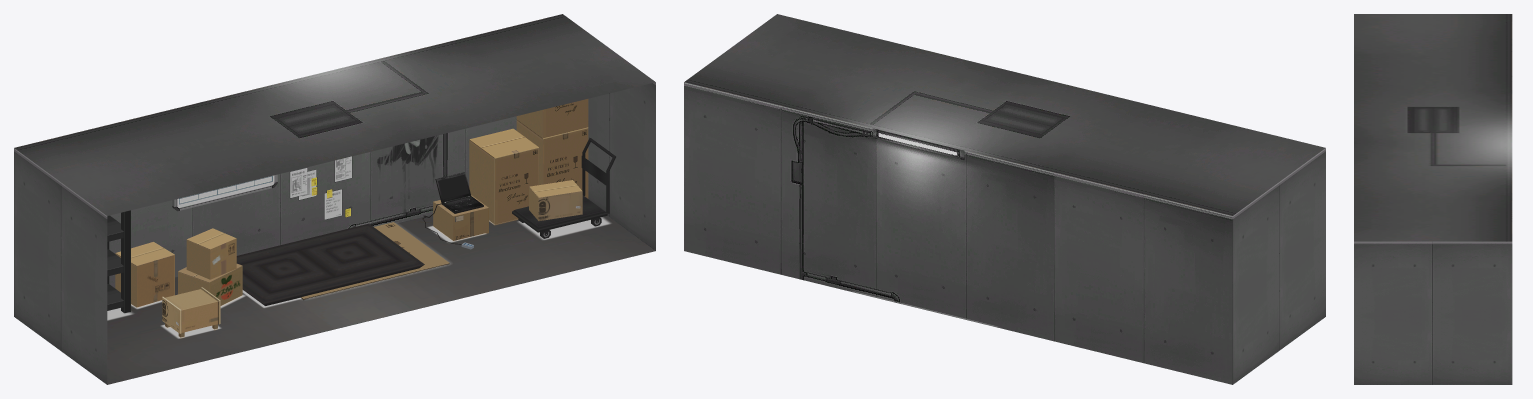
The model's file is warehouse.glb.
3 renders of one model, left to right at view 1: azimuth 30°, elevation 25°; view 2: azimuth 150°, elevation 25°; view 3: azimuth 270°, elevation 25°, orthographic. The views are drawn at different scales.
Parts seen in each view (by area): view 1: ROOM_room, ROOM_floor, furni_warehouse_bed_01, furni_warehouse_boxes_01, furni_warehouse_boxes_02, furni_warehouse_boxes_03, furni_warehouse_trolley_01, furni_warehouse_laptop_01, furni_warehouse_chair_01, furni_warehouse_storageshelf_01, furni_warehouse_note_01, furni_warehouse_cardboard_01 (+5 smaller); view 2: ROOM_room, ROOM_LDoor; view 3: ROOM_room, ROOM_RDoor.
Boxes of the visible parts, x1,y1,x2,y2 form: ROOM_room: (14, 14, 655, 384); ROOM_floor: (107, 215, 655, 384); furni_warehouse_bed_01: (236, 223, 424, 305); furni_warehouse_boxes_01: (115, 228, 242, 307); furni_warehouse_boxes_02: (469, 128, 538, 225); furni_warehouse_boxes_03: (516, 99, 588, 198); furni_warehouse_trolley_01: (512, 137, 615, 238); furni_warehouse_laptop_01: (422, 172, 488, 249); furni_warehouse_chair_01: (162, 287, 220, 338); furni_warehouse_storageshelf_01: (107, 210, 130, 313); furni_warehouse_note_01: (290, 156, 352, 219); furni_warehouse_cardboard_01: (300, 222, 449, 300); ROOM_room: (684, 14, 1325, 384); ROOM_LDoor: (1293, 250, 1312, 340); ROOM_room: (1354, 14, 1512, 384); ROOM_RDoor: (1377, 319, 1409, 384).
Bounding box in the file's own units: 7.48 × 2.2 × 2.29.
5 materials, 5 textured.
